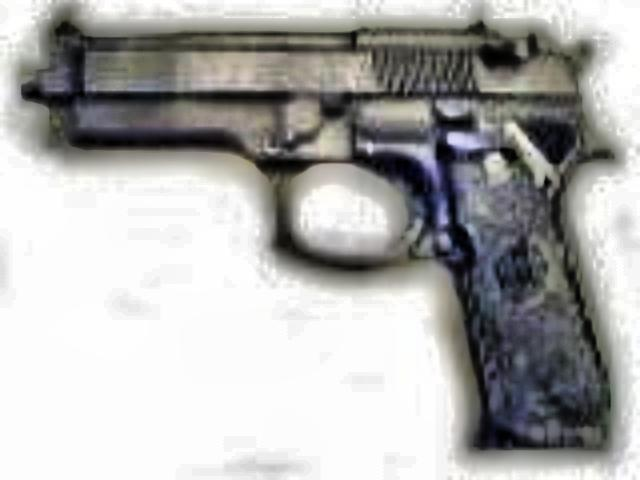pistol: (12, 0, 616, 448)
